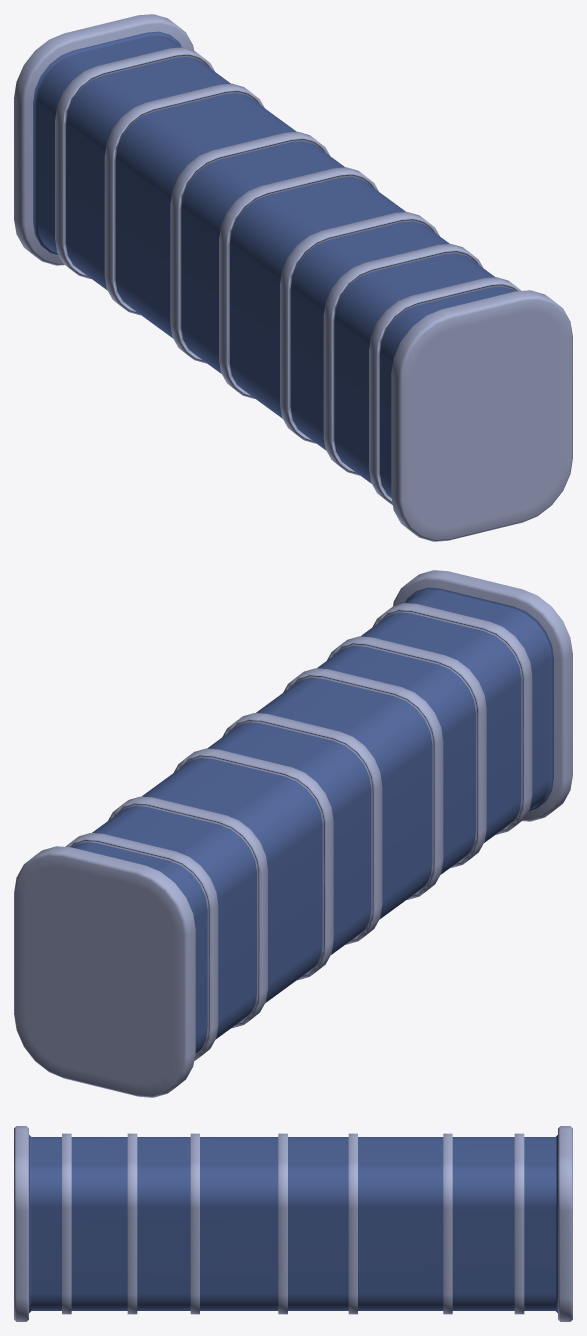
The model's file is SM_Gateway_01.fbx.
The picture shows the model from 3 angles, top to bottom: view 1: azimuth 30°, elevation 25°; view 2: azimuth 150°, elevation 25°; view 3: azimuth 270°, elevation 25°; orthographic projection. The views are drawn at different scales.
Parts seen in each view (by area): view 1: SM_Gateway_01; view 2: SM_Gateway_01; view 3: SM_Gateway_01.
Boxes of the visible parts, <box> form: SM_Gateway_01: <box>14,14,572,541</box>; SM_Gateway_01: <box>14,570,572,1097</box>; SM_Gateway_01: <box>14,1126,572,1321</box>.
Size of the model in its own units: 626 by 774 by 2406.
